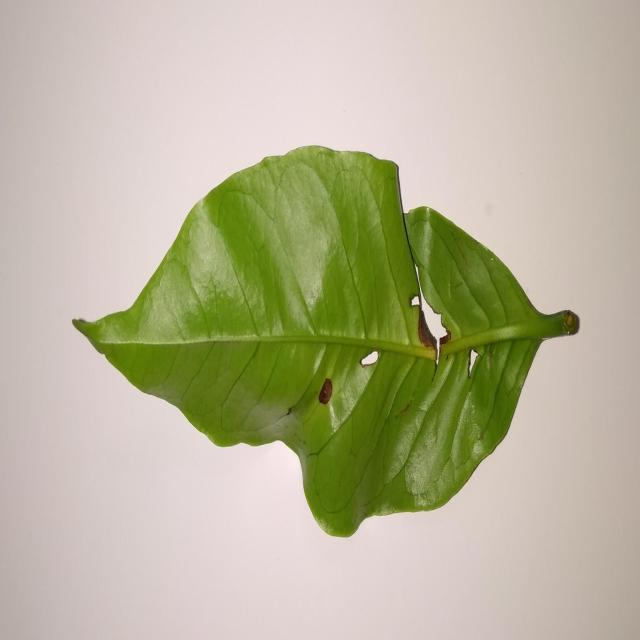Enfermedad-Antracnosis: (70, 147, 581, 541)
